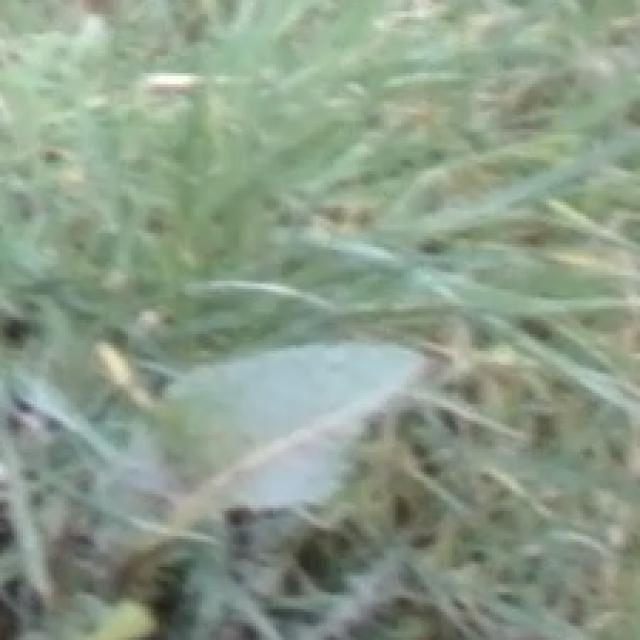organic waste: (0, 270, 474, 572)
